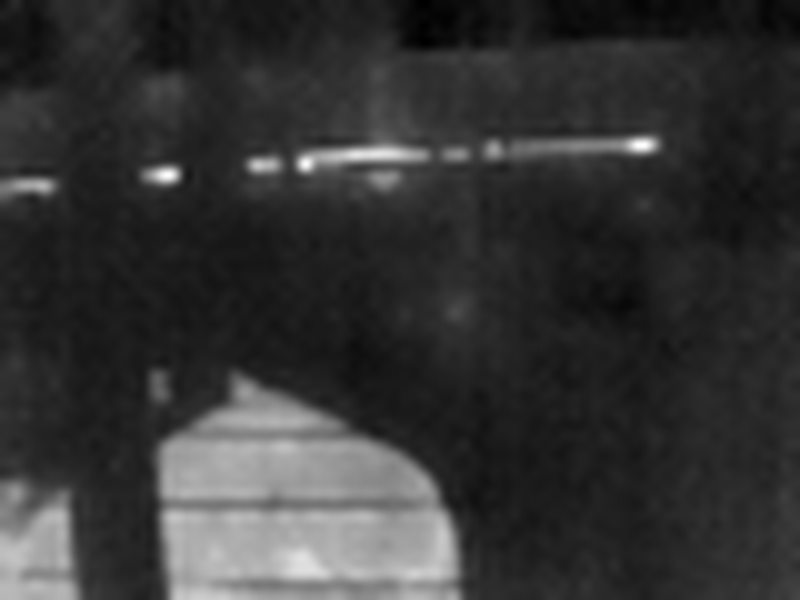elephant: (24, 374, 521, 600)
